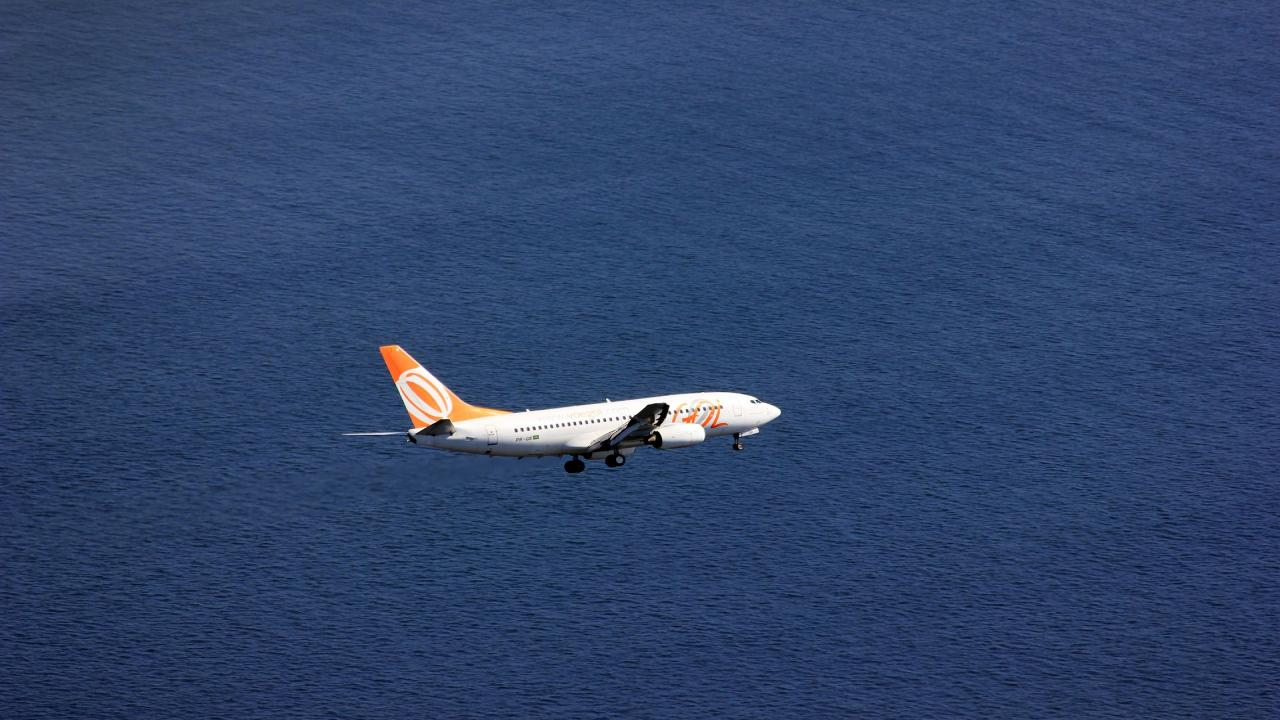Airplane: (328, 327, 802, 486)
